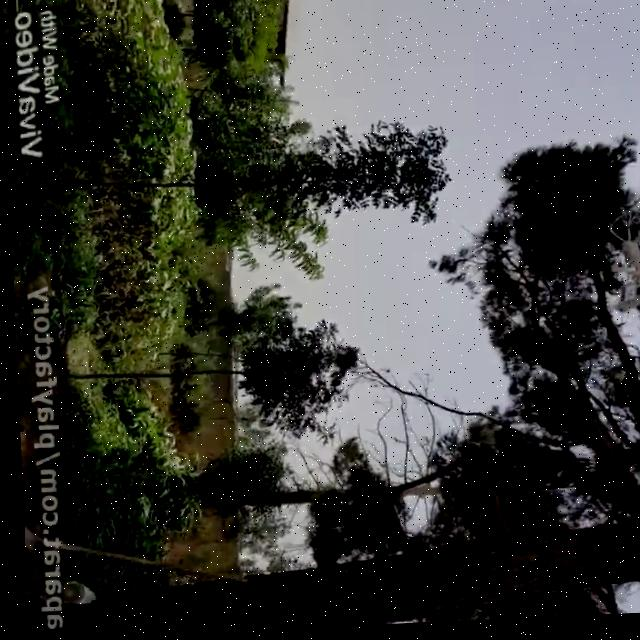drone: (603, 218, 640, 331)
